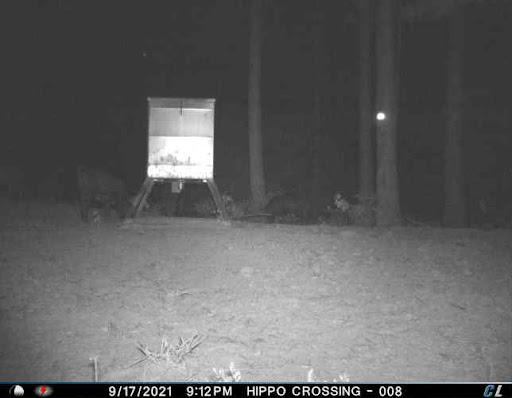Hog: (75, 159, 142, 221), (256, 184, 311, 227)
